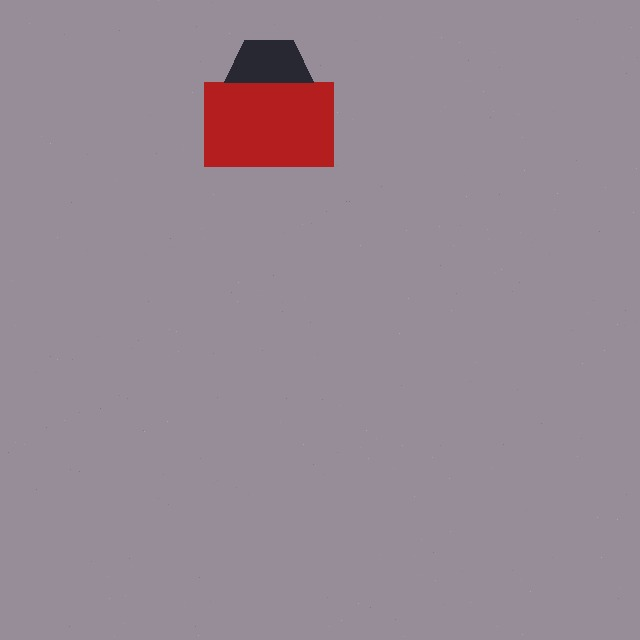vehicle: (204, 40, 333, 166)
